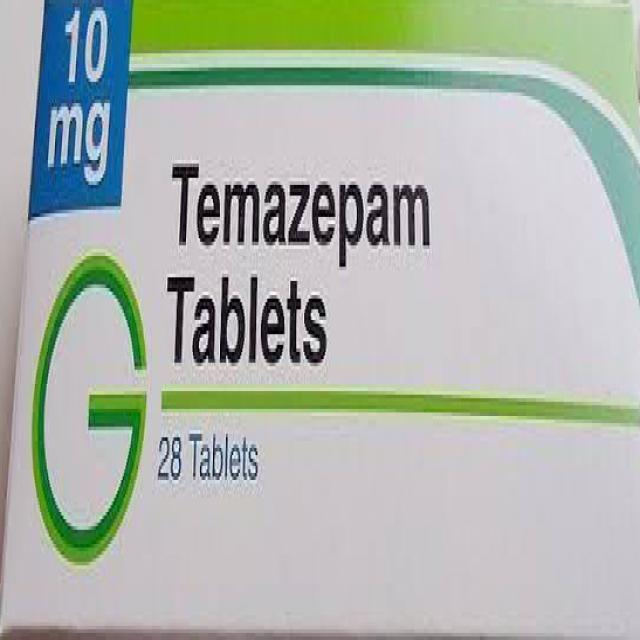drug-name: (168, 152, 434, 270)
